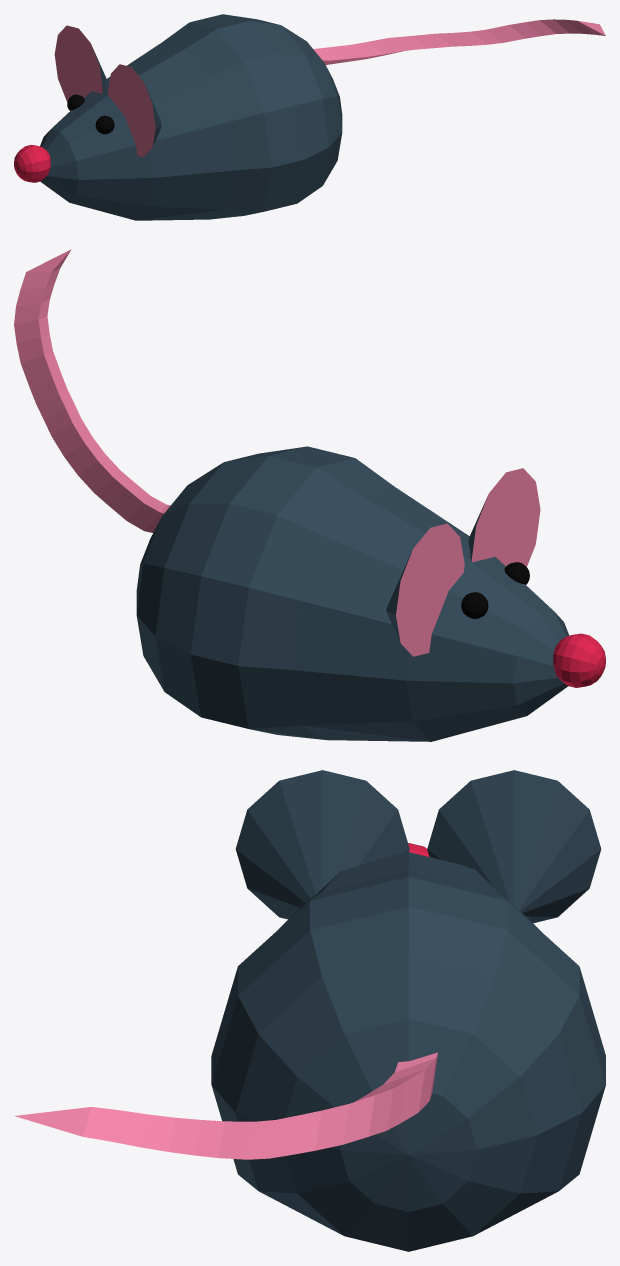
File: mouse.obj
The picture shows the model from 3 angles, top to bottom: view 1: azimuth 30°, elevation 25°; view 2: azimuth 150°, elevation 25°; view 3: azimuth 270°, elevation 25°; orthographic projection. The views are drawn at different scales.
Visible parts, largest first — view 1: group1226118074, group366457425, group1244576720, group1190368398, group1930673237, group501500655; view 2: group1226118074, group366457425, group1190368398, group1244576720, group1930673237; view 3: group1226118074, group1190368398, group1244576720, group366457425.
Boxes of the visible parts, x1,y1,x2,y2 form: group1226118074: [40, 14, 342, 220]; group366457425: [313, 19, 605, 64]; group1244576720: [107, 64, 161, 157]; group1190368398: [54, 25, 106, 101]; group1930673237: [14, 145, 50, 182]; group501500655: [95, 115, 114, 134]; group1226118074: [136, 446, 569, 741]; group366457425: [14, 249, 170, 532]; group1190368398: [386, 523, 464, 656]; group1244576720: [468, 468, 540, 566]; group1930673237: [553, 633, 605, 687]; group1226118074: [211, 852, 605, 1251]; group1190368398: [427, 770, 601, 923]; group1244576720: [235, 770, 409, 919]; group366457425: [15, 1052, 437, 1159].
Bounding box in the file's own units: 0.5917 × 0.1982 × 0.3399.
